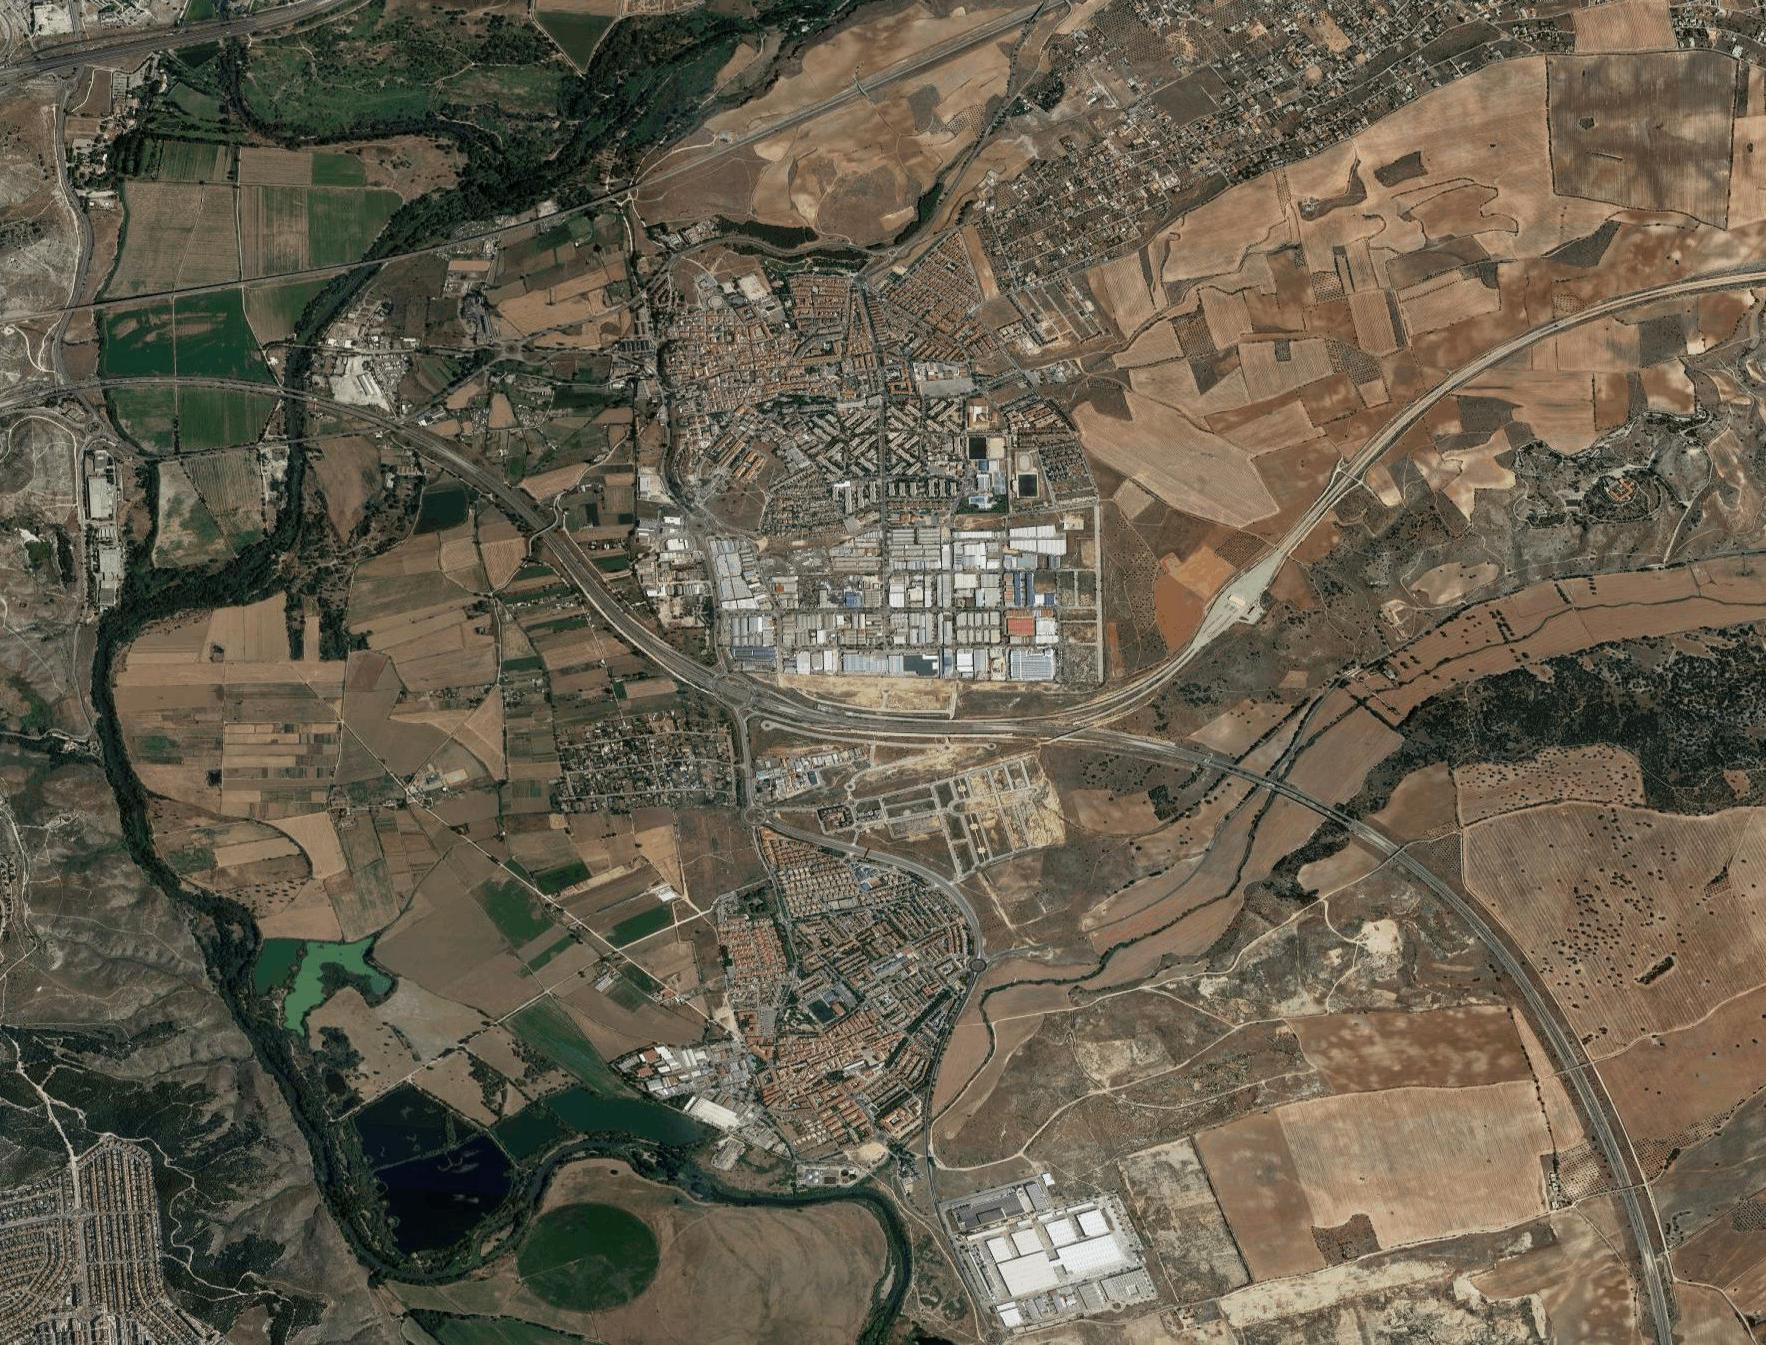industrial: (742, 517, 1094, 691), (961, 1191, 1158, 1324)
motorway: (291, 389, 554, 535), (1264, 773, 1479, 934), (548, 528, 725, 698), (1481, 930, 1619, 1137), (989, 711, 1259, 791), (1592, 1137, 1676, 1345), (722, 685, 988, 749)
